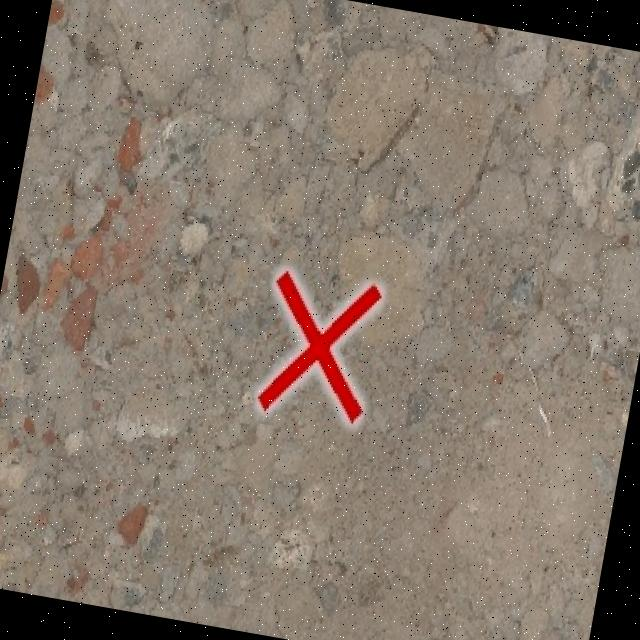x_marker: (253, 268, 382, 426)
